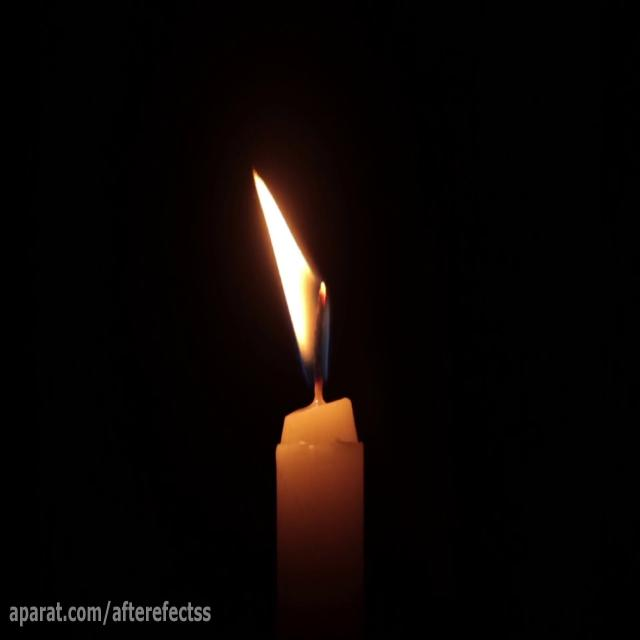fire: (247, 151, 332, 394)
